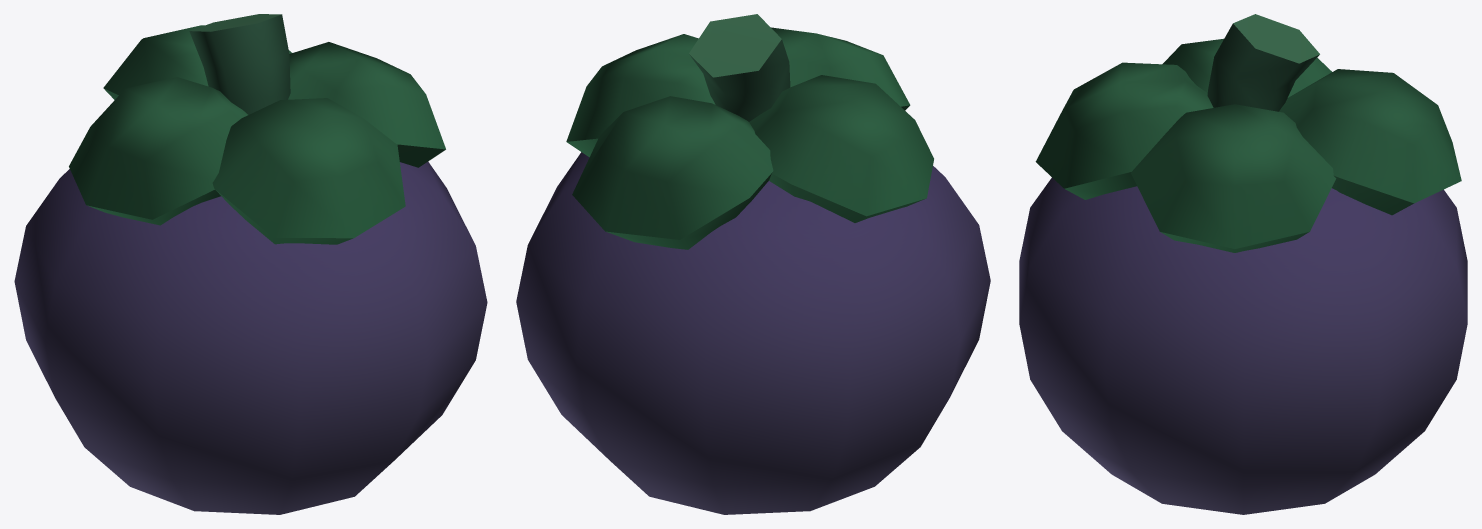
The model's file is Mangostan_2.glb.
The picture shows the model from 3 angles, left to right: view 1: azimuth 30°, elevation 25°; view 2: azimuth 150°, elevation 25°; view 3: azimuth 270°, elevation 25°; orthographic projection.
Visible parts, largest first — view 1: geometry_0; view 2: geometry_0; view 3: geometry_0.
Boxes of the visible parts, x1,y1,x2,y2 form: geometry_0: [14, 14, 487, 514]; geometry_0: [516, 14, 990, 514]; geometry_0: [1019, 14, 1467, 514].
Bounding box in the file's own units: 0.1092 × 0.1195 × 0.1039.
Materials: 1 (1 with a texture image).
